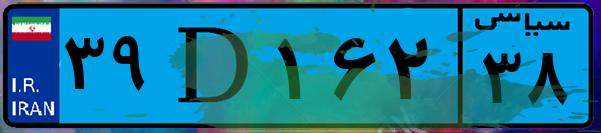1: (270, 28, 330, 110)
2: (385, 28, 445, 110)
3: (57, 26, 110, 100), (475, 38, 525, 113)
6: (330, 28, 385, 110)
8: (525, 38, 570, 115)
9: (110, 28, 158, 98)
D: (158, 12, 270, 120)
